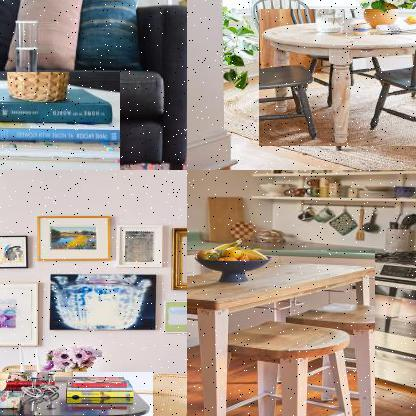table: (187, 250, 377, 415), (259, 9, 415, 148), (0, 72, 122, 169)
